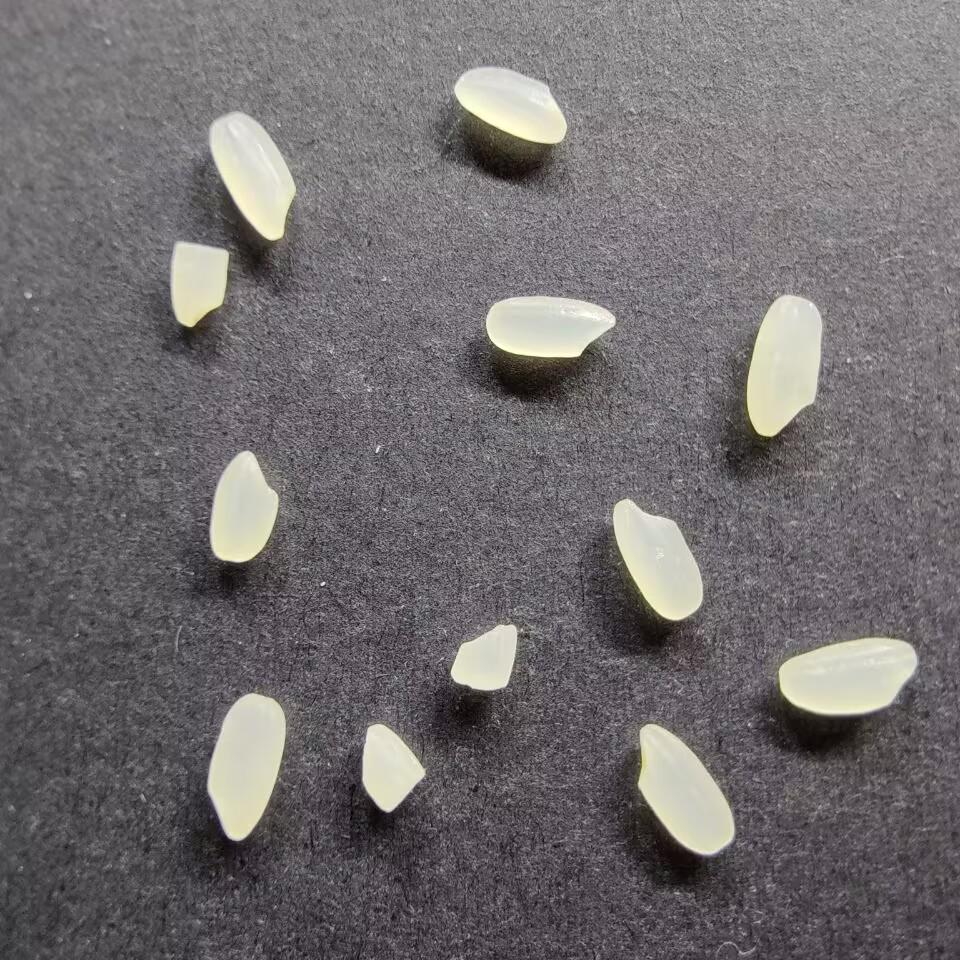broken: (358, 722, 430, 815), (169, 238, 235, 330), (448, 622, 520, 691)
rice: (635, 723, 738, 856), (204, 691, 287, 842), (611, 496, 707, 623), (206, 111, 298, 243), (776, 635, 918, 719), (744, 292, 825, 437), (451, 65, 569, 146), (483, 294, 618, 360), (209, 447, 280, 564)
